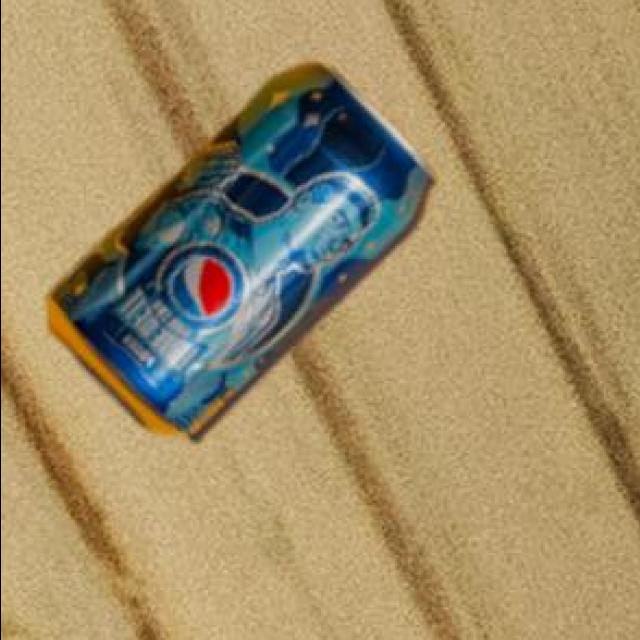logam: (45, 62, 430, 439)
